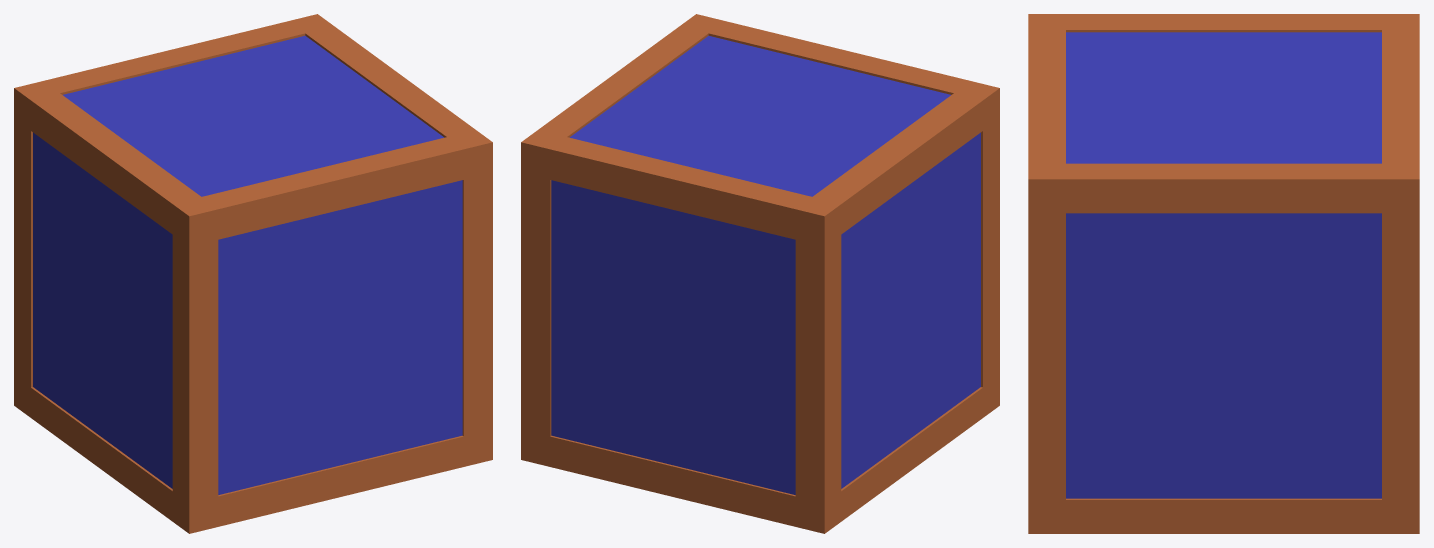
File: Prop_HideMoveBox_Fabi_M.fbx
The picture shows the model from 3 angles, left to right: view 1: azimuth 30°, elevation 25°; view 2: azimuth 150°, elevation 25°; view 3: azimuth 270°, elevation 25°; orthographic projection. The views are drawn at different scales.
Parts seen in each view (by area): view 1: HideBox; view 2: HideBox; view 3: HideBox.
Boxes of the visible parts, x1,y1,x2,y2 form: HideBox: (14,14,492,533); HideBox: (521,14,999,533); HideBox: (1028,14,1419,533).
Size of the model in its own units: 30 by 30 by 30.
